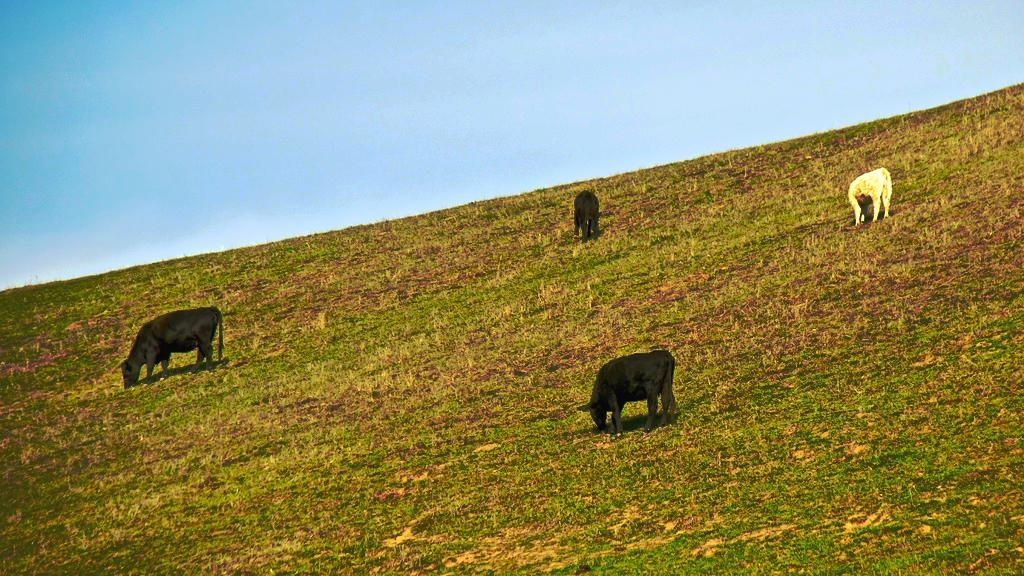Sheep: (848, 158, 894, 234)
